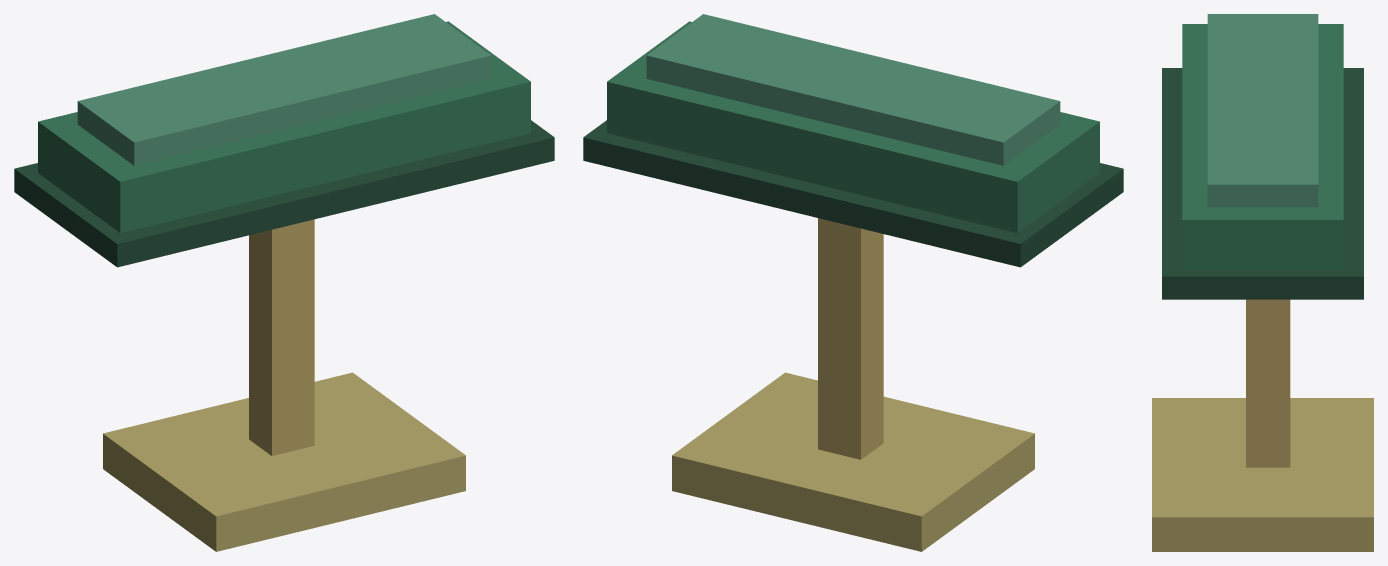
File: CMU3DBankerLamp.glb
3 views of the same model, side by side, from view 1: azimuth 30°, elevation 25°; view 2: azimuth 150°, elevation 25°; view 3: azimuth 270°, elevation 25° (orthographic). The views are drawn at different scales.
Visible parts, largest first — view 1: foot, green shade center, shade top, shade rim, brass stem; view 2: foot, green shade center, shade top, shade rim, brass stem; view 3: foot, shade top, green shade center, shade rim, brass stem.
Part boxes in pixels (x1,y1,x2,y2): foot: (103, 372, 465, 551); green shade center: (38, 21, 530, 233); shade top: (77, 14, 491, 165); shade rim: (14, 120, 554, 267); brass stem: (249, 219, 314, 455); foot: (672, 372, 1034, 551); green shade center: (607, 21, 1099, 233); shade top: (646, 14, 1060, 165); shade rim: (583, 120, 1123, 267); brass stem: (818, 218, 883, 459); foot: (1152, 398, 1373, 551); shade top: (1207, 14, 1318, 207); green shade center: (1182, 24, 1343, 270); shade rim: (1162, 68, 1363, 299); brass stem: (1246, 299, 1290, 467).
Size of the model in its own units: 0.49 by 0.43 by 0.22.
